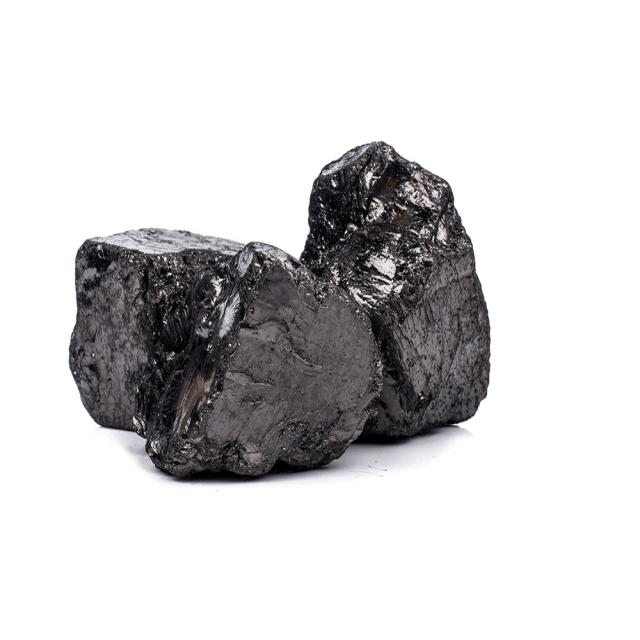Sedimentary: (53, 122, 504, 494)
